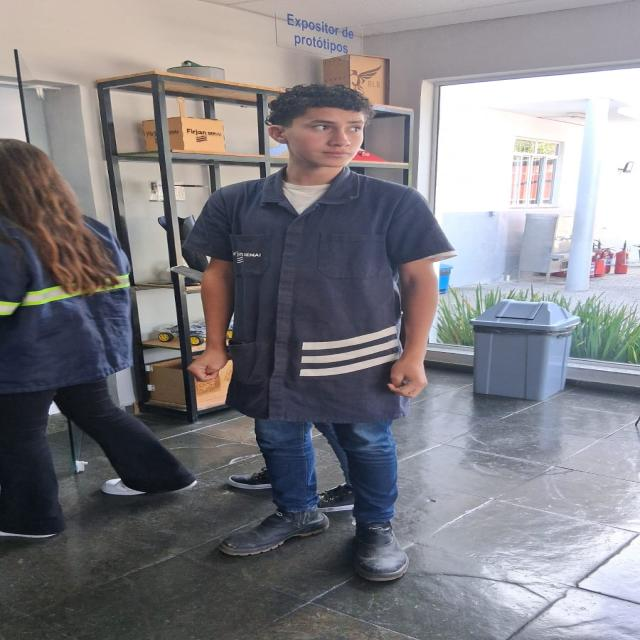BOTA: (217, 510, 338, 558), (353, 520, 412, 585)
JALECO: (178, 167, 458, 423)
SEM BOTA: (97, 473, 195, 495), (306, 479, 359, 511), (225, 467, 276, 490)
SEM LUVA: (380, 356, 432, 400), (185, 348, 233, 383)
